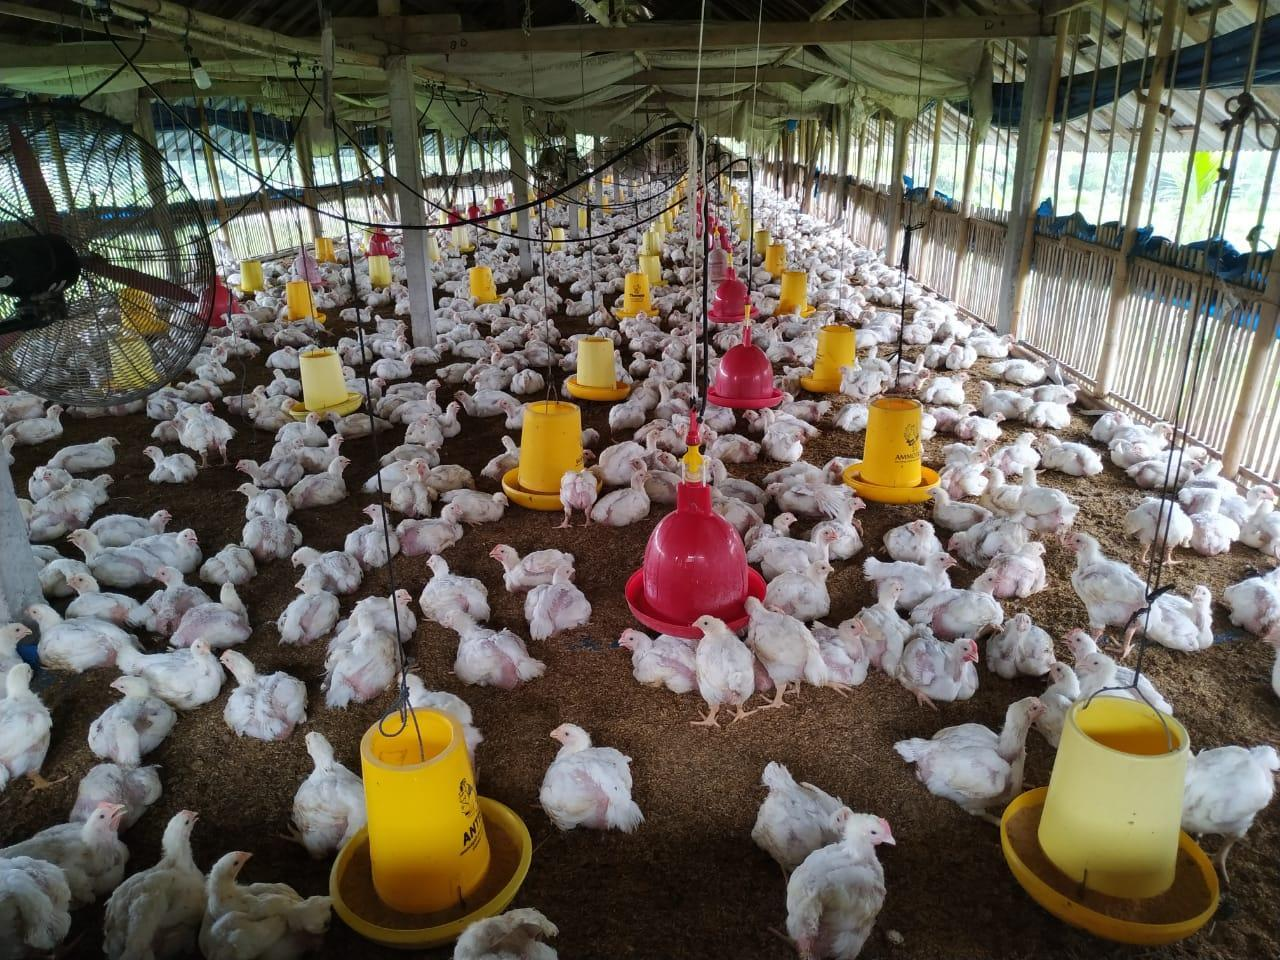chicken: (895, 694, 1044, 811), (789, 812, 898, 958), (108, 806, 208, 960), (12, 788, 130, 912), (206, 850, 340, 957), (540, 716, 643, 839), (1187, 736, 1280, 852), (1070, 524, 1154, 635), (292, 730, 366, 856), (743, 592, 820, 703), (437, 612, 548, 686), (758, 760, 837, 860), (224, 646, 307, 736), (121, 636, 222, 704), (28, 600, 133, 665), (88, 672, 170, 750), (0, 659, 50, 786), (898, 630, 988, 700), (694, 616, 750, 724), (618, 624, 702, 691), (1148, 582, 1218, 650), (524, 571, 596, 636), (422, 558, 487, 622), (281, 576, 334, 644), (494, 538, 563, 589), (596, 466, 652, 525)
